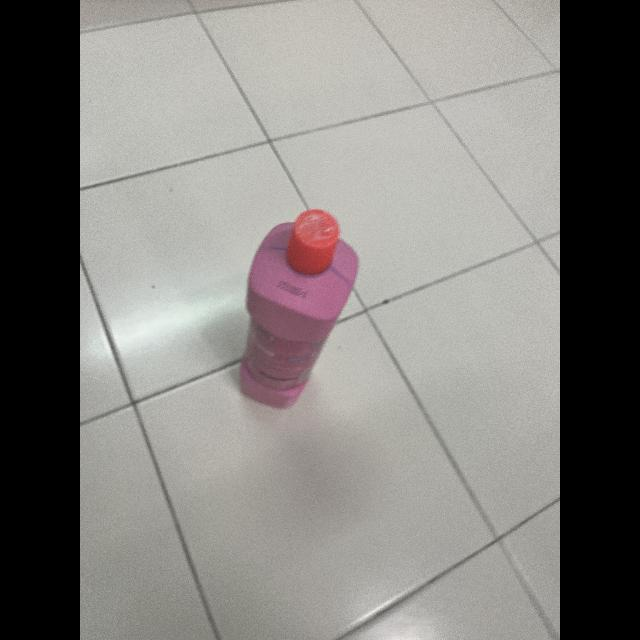chemical_plastic_bottle: (232, 202, 366, 418)
